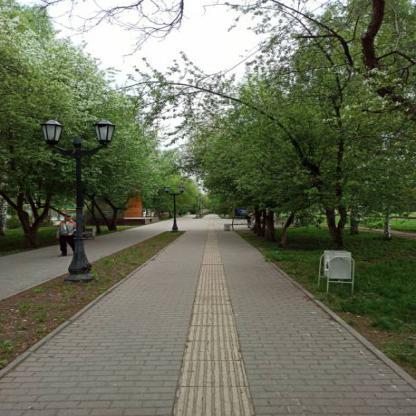podotacti: (175, 235, 252, 410)
